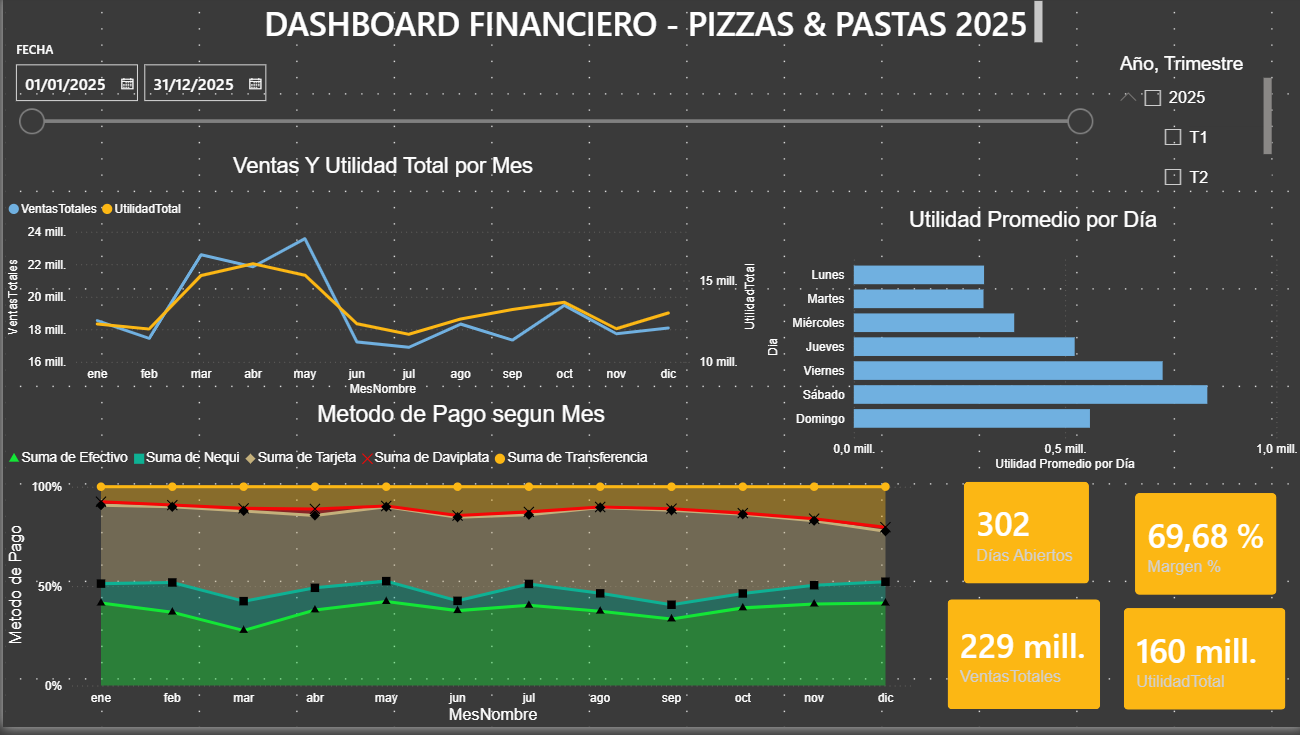

This screenshot's page, from the dashboard's own definition file:
{"tool":"powerbi","page":{"name":"Dashboard 2025","canvas":[1280,720],"ordinal":0},"visuals":[{"type":"cardVisual","fields":{"Data":["Tabla.VentasTotales"]},"box":[912.9,577.1,184.6,142.8],"z":0},{"type":"cardVisual","fields":{"Data":["Tabla.UtilidadTotal"]},"box":[1086.8,585.8,193.2,134.2],"z":1000},{"type":"cardVisual","fields":{"Data":["Tabla.Días Abiertos"]},"box":[929.2,461.5,157.5,134.2],"z":2000},{"type":"cardVisual","fields":{"Data":["Tabla.Margen %"]},"box":[1097.8,472.6,173.5,134.2],"z":3000},{"type":"barChart","title":"Utilidad Promedio por Día","fields":{"Category":["cuentas_2025_consolidado.Dia"],"Y":["Tabla.Utilidad Promedio por Día"]},"box":[748.3,208,531.7,264.6],"z":4000},{"type":"lineChart","title":"Ventas Y Utilidad Total por Mes","fields":{"Category":["Tabla.MesNombre"],"Y":["Tabla.VentasTotales"],"Y2":["Tabla.UtilidadTotal"]},"box":[0,155.1,748.3,243.7],"z":5000},{"type":"hundredPercentStackedAreaChart","title":"Metodo de Pago segun Mes","fields":{"Category":["Tabla.MesNombre"],"Y":["Sum(cuentas_2025_consolidado.Efectivo)","Sum(cuentas_2025_consolidado.Nequi)","Sum(cuentas_2025_consolidado.Tarjeta)","Sum(cuentas_2025_consolidado.Daviplata)","Sum(cuentas_2025_consolidado.Transferencia)"]},"box":[0,398.8,902.2,322.5],"z":6000},{"type":"slicer","fields":{"Values":["Tabla.Año","Tabla.Trimestre"]},"box":[1086.8,51.7,167.4,155.1],"z":7000},{"type":"slicer","fields":{"Values":["Tabla.Date"]},"box":[0,39.4,1081.8,126.8],"z":8000},{"type":"textbox","box":[252.5,0,776.2,51.2],"z":9000}]}

Visuals, with their boxes in screenshot pixels (x1, y1, x2, y2), scaled from the page's 1280x720 canvas onto the 1300x735 screenshot:
cardVisual - Tabla.VentasTotales: l=927, t=589, r=1115, b=734
cardVisual - Tabla.UtilidadTotal: l=1104, t=598, r=1299, b=734
cardVisual - Tabla.Días Abiertos: l=944, t=471, r=1104, b=608
cardVisual - Tabla.Margen %: l=1115, t=482, r=1291, b=619
"Utilidad Promedio por Día" barChart: l=760, t=212, r=1299, b=482
"Ventas Y Utilidad Total por Mes" lineChart: l=0, t=158, r=760, b=407
"Metodo de Pago segun Mes" hundredPercentStackedAreaChart: l=0, t=407, r=916, b=734
slicer - Tabla.Año x Tabla.Trimestre: l=1104, t=53, r=1274, b=211
slicer - Tabla.Date: l=0, t=40, r=1099, b=170
textbox: l=256, t=0, r=1045, b=52
